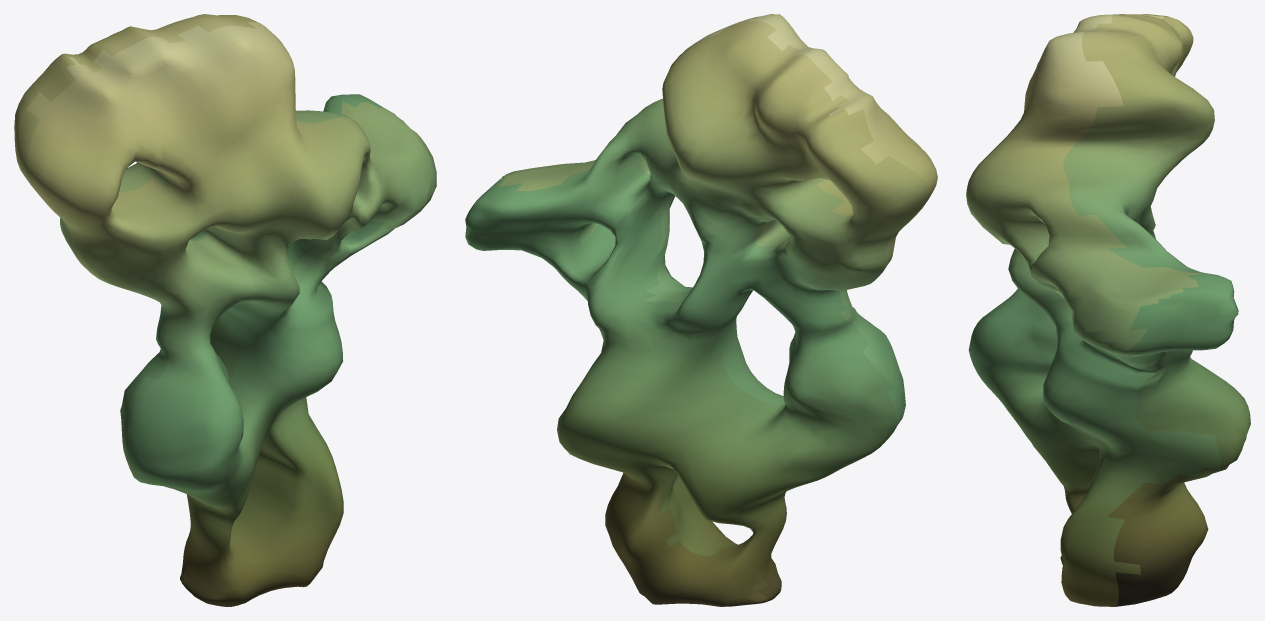
Rendered from TaiHuShi2.fbx.
3 views of the same model, side by side, from view 1: azimuth 30°, elevation 25°; view 2: azimuth 150°, elevation 25°; view 3: azimuth 270°, elevation 25° (orthographic). The views are drawn at different scales.
Visible parts, largest first — view 1: 太湖石; view 2: 太湖石; view 3: 太湖石.
Boxes of the visible parts, x1,y1,x2,y2 form: 太湖石: [14, 14, 436, 606]; 太湖石: [465, 14, 937, 606]; 太湖石: [966, 14, 1250, 606].
Bounding box in the file's own units: 107 × 143 × 68.43.
